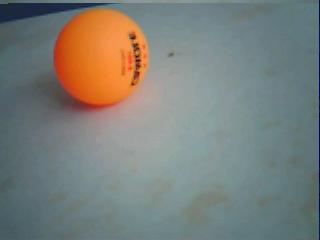oball: (52, 8, 149, 105)
